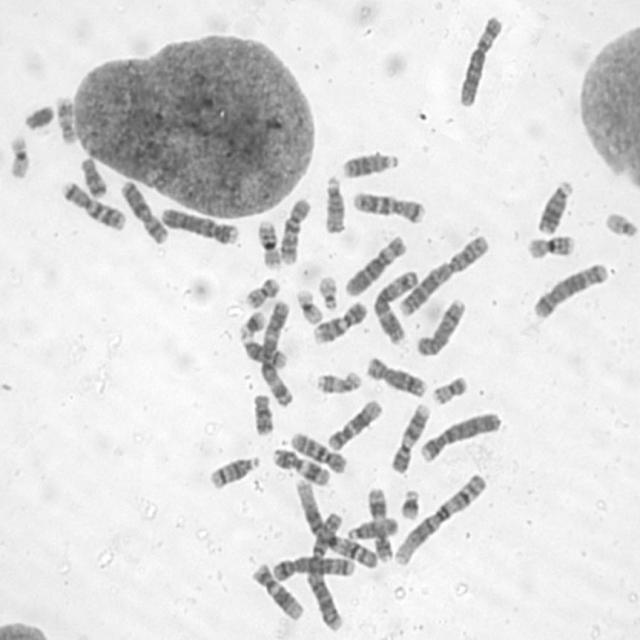A1: (392, 471, 488, 566), (291, 476, 382, 570)
A2: (395, 231, 492, 318), (303, 505, 347, 632)
A3: (257, 298, 294, 408), (370, 267, 419, 344)
B4: (417, 409, 503, 464), (159, 204, 240, 246)
B5: (530, 258, 610, 321), (269, 552, 357, 583)
C10: (289, 430, 349, 475), (277, 194, 314, 266)
C11: (269, 445, 332, 487), (364, 484, 393, 564)
C12: (247, 559, 305, 622), (325, 397, 385, 452)
C6: (456, 12, 504, 108), (341, 231, 409, 298)
C7: (58, 177, 128, 233), (350, 188, 427, 226)
C8: (414, 295, 468, 357), (364, 354, 429, 398)
C9: (387, 400, 432, 474), (310, 298, 369, 346)
D13: (534, 176, 574, 236), (338, 147, 401, 180)
D14: (206, 450, 263, 490), (238, 333, 289, 369)
D15: (342, 514, 400, 543), (322, 172, 346, 236)
E16: (255, 217, 283, 270), (524, 232, 576, 260)
E17: (52, 93, 78, 146), (312, 368, 363, 395)
E18: (78, 154, 110, 199), (250, 388, 276, 436)
F19: (5, 132, 32, 180), (294, 286, 324, 326)
F20: (242, 274, 281, 310), (430, 372, 470, 406)
G21: (236, 306, 268, 339), (397, 485, 422, 523)
G22: (602, 208, 639, 238), (315, 272, 340, 311)
X: (117, 176, 170, 246)
Y: (20, 100, 56, 131)
